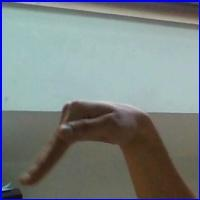A: (24, 93, 149, 189)
